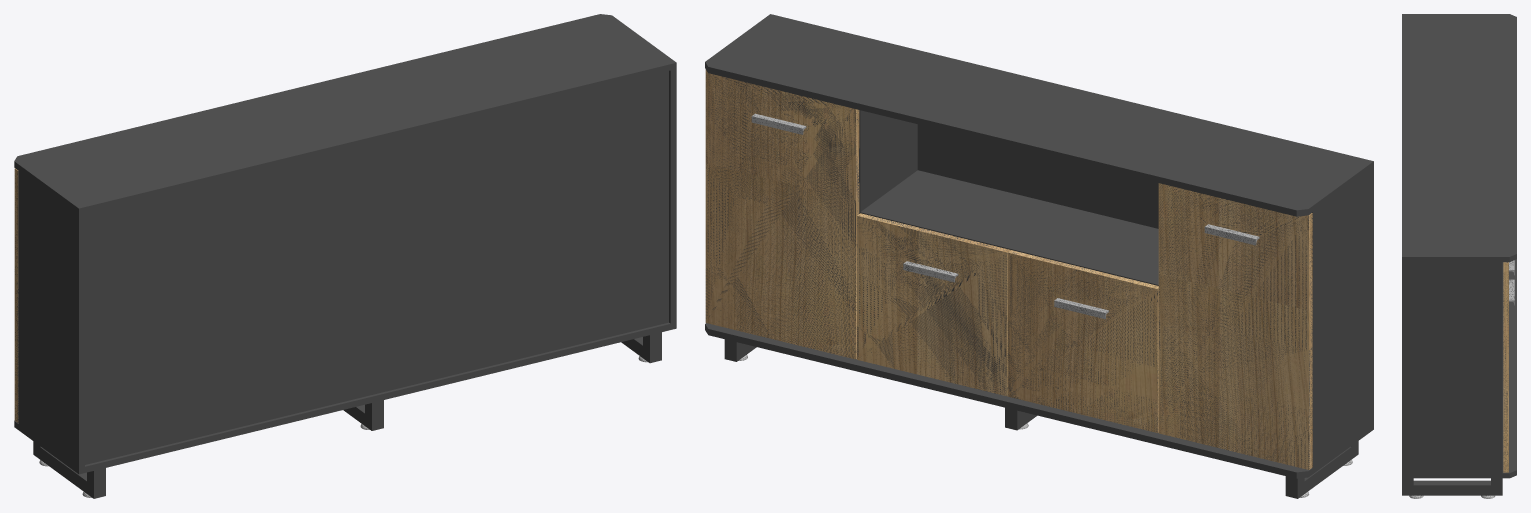
File: gddolap.dae
3 views of the same model, side by side, from view 1: azimuth 30°, elevation 25°; view 2: azimuth 150°, elevation 25°; view 3: azimuth 270°, elevation 25° (orthographic). The views are drawn at different scales.
Parts seen in each view (by area): view 1: Component_1 (×2); view 2: Component_1 (×5); view 3: Component_1 (×2).
Boxes of the visible parts, x1,y1,x2,y2 form: Component_1 (×2): [14, 14, 676, 498]; Component_1 (×5): [705, 14, 1373, 498]; Component_1 (×2): [1402, 14, 1516, 495].
Size of the model in its own units: 78.74 by 15.75 by 37.4.
3 materials, 1 textured.
